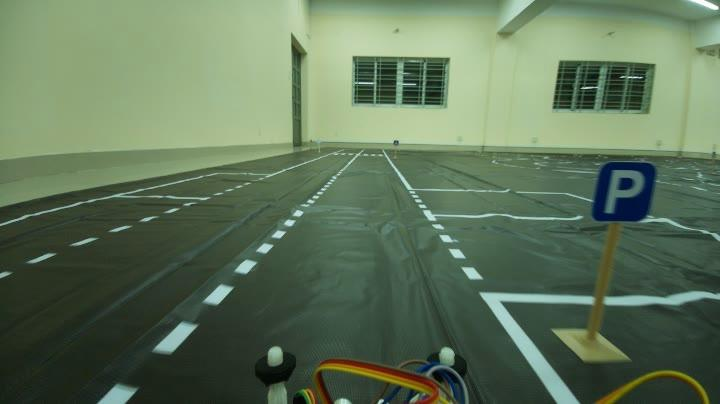parking: (584, 161, 657, 231)
